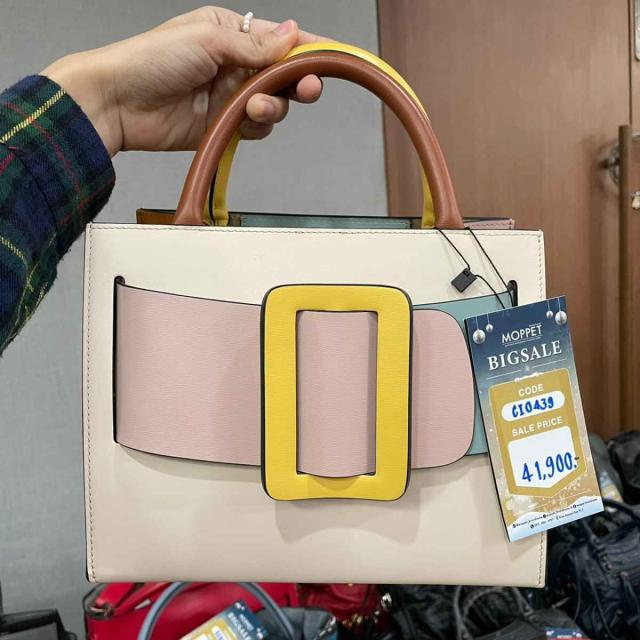Handbag: (45, 166, 564, 596)
